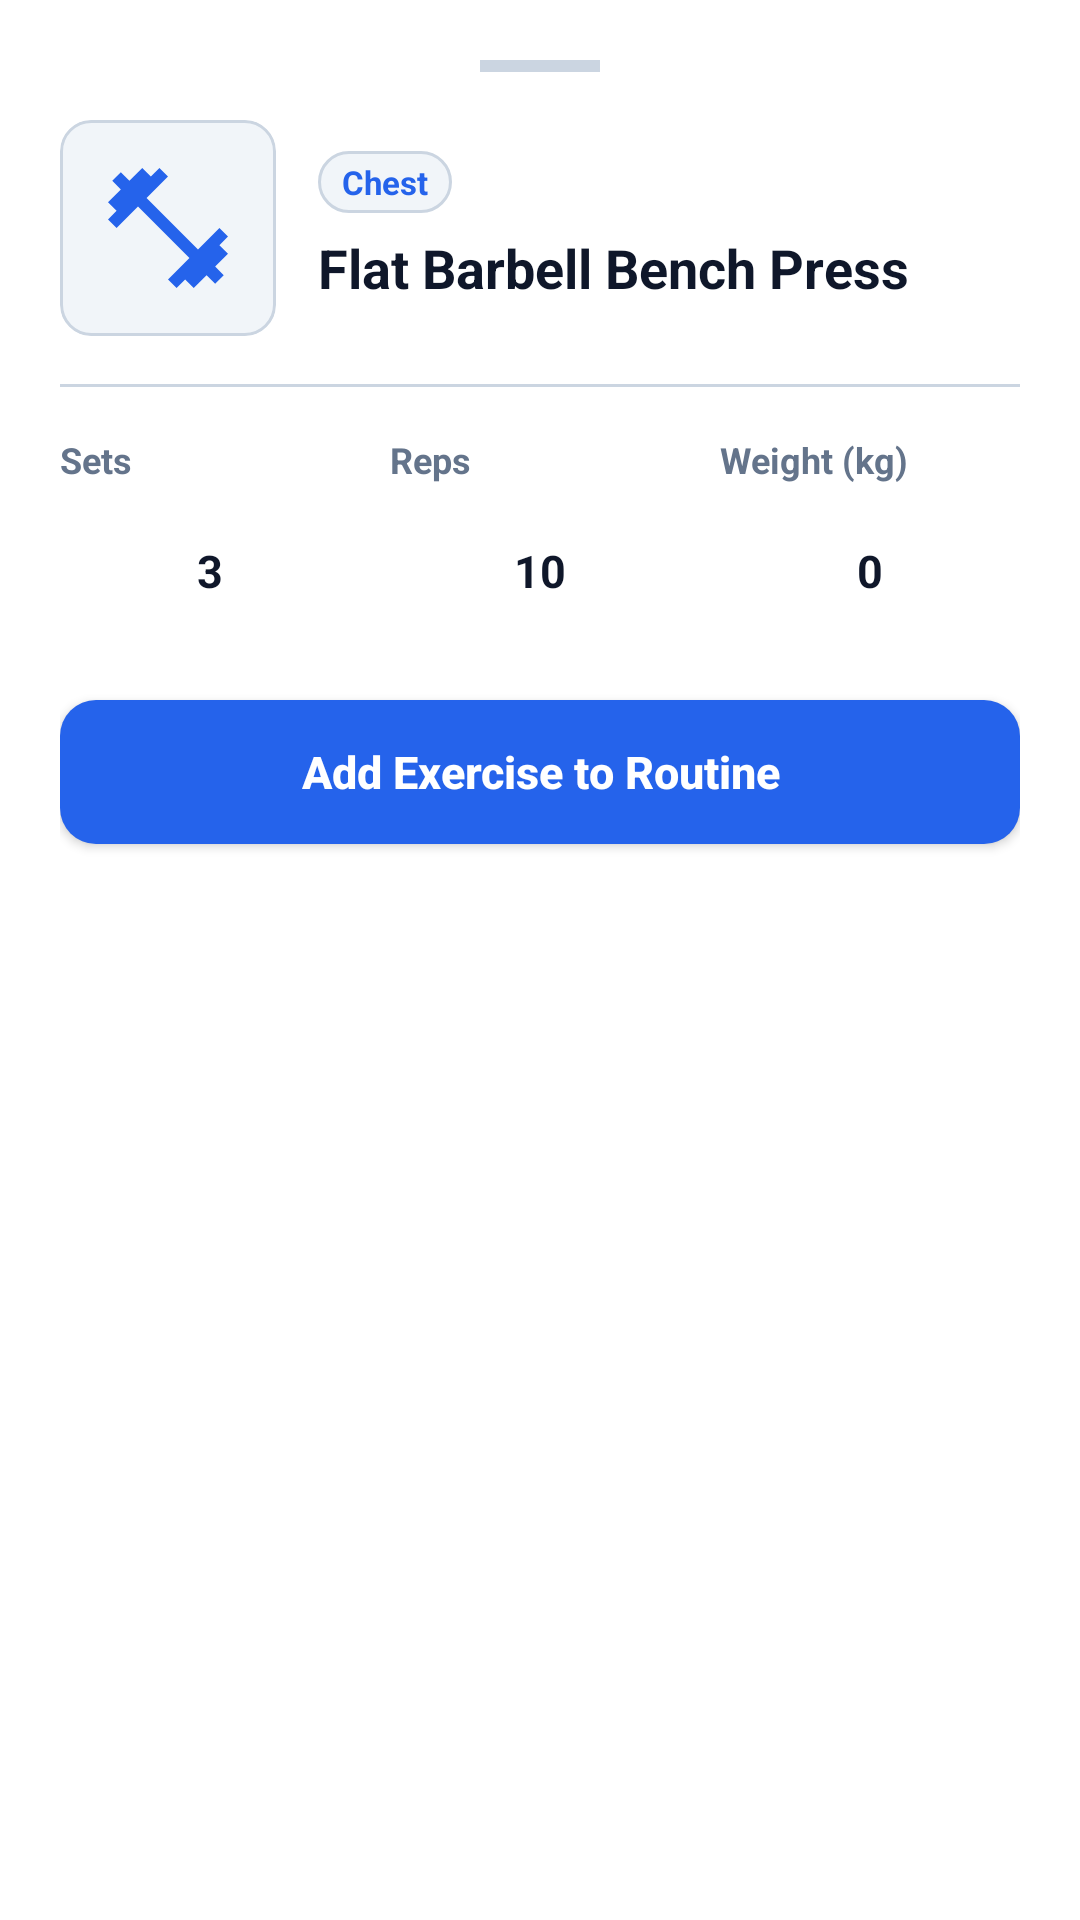

Icon bounding boxes for this 1080x1920 phone screenshot, format BBox(x1, y1, x2, y2):
Selected exercise demonstration: BBox(60, 120, 276, 336)
